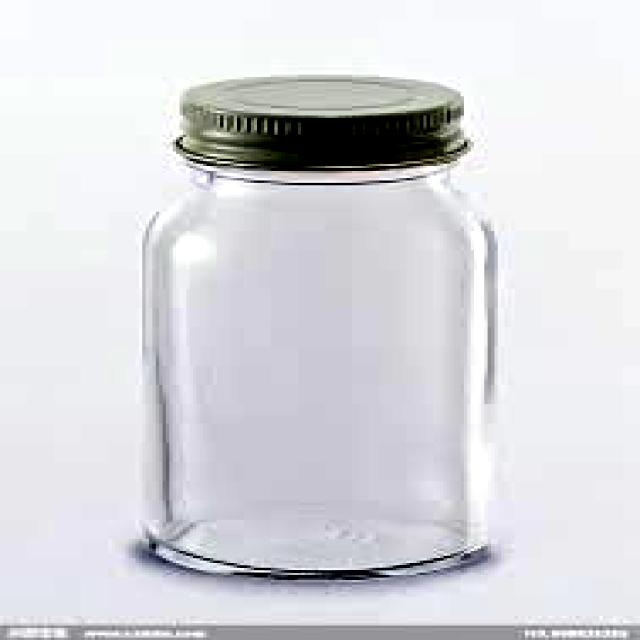Glass: (132, 68, 506, 588)
Metal: (166, 71, 476, 172)
